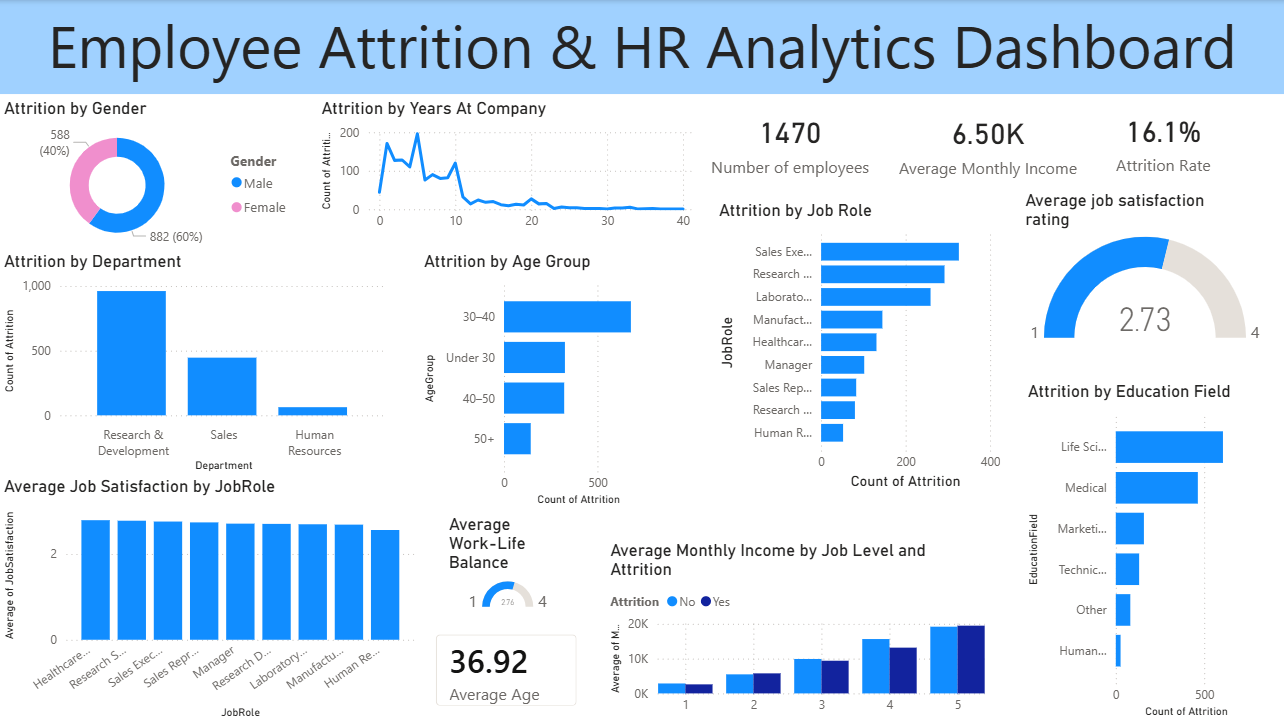

Layout of this report page (visuals, bound fields, positions):
{"tool":"powerbi","page":{"name":"Page 1","canvas":[1280,720],"ordinal":0},"visuals":[{"type":"cardVisual","fields":{"Data":["Avg(WA_Fn-UseC_-HR-Employee-Attrition.Age)"]},"box":[418.6,614.3,174.3,105.7],"z":0},{"type":"textbox","box":[0,0,1280.3,93.3],"z":1000},{"type":"card","fields":{"Values":["Avg(WA_Fn-UseC_-HR-Employee-Attrition.MonthlyIncome)"]},"box":[880,101.4,210,81.4],"z":2000},{"type":"card","fields":{"Values":["Sum(WA_Fn-UseC_-HR-Employee-Attrition.EmployeeCount)"]},"box":[695.7,94.3,184.3,94.3],"z":3000},{"type":"gauge","title":"Average job satisfaction rating","fields":{"Y":["Avg(WA_Fn-UseC_-HR-Employee-Attrition.JobSatisfaction)"],"MinValue":["Min(WA_Fn-UseC_-HR-Employee-Attrition.JobSatisfaction)1"],"MaxValue":["Max(WA_Fn-UseC_-HR-Employee-Attrition.JobSatisfaction)2"]},"box":[1015.7,188.6,248.6,157.1],"z":4000},{"type":"donutChart","title":" Attrition by Gender","fields":{"Category":["WA_Fn-UseC_-HR-Employee-Attrition.Gender"],"Y":["CountNonNull(WA_Fn-UseC_-HR-Employee-Attrition.Attrition)"]},"box":[0,97.1,301.4,154.3],"z":5000},{"type":"clusteredColumnChart","title":"Attrition by Department","fields":{"Category":["WA_Fn-UseC_-HR-Employee-Attrition.Department"],"Y":["CountNonNull(WA_Fn-UseC_-HR-Employee-Attrition.Attrition)"]},"box":[0,250,391.4,224.3],"z":6000},{"type":"barChart","title":"Attrition by Job Role","fields":{"Category":["WA_Fn-UseC_-HR-Employee-Attrition.JobRole"],"Y":["CountNonNull(WA_Fn-UseC_-HR-Employee-Attrition.Attrition)"]},"box":[711.4,198.6,290,292.9],"z":7000},{"type":"clusteredBarChart","title":"Attrition by Education Field","fields":{"Category":["WA_Fn-UseC_-HR-Employee-Attrition.EducationField"],"Y":["CountNonNull(WA_Fn-UseC_-HR-Employee-Attrition.Attrition)"]},"box":[1018.6,380,248.6,340],"z":8000},{"type":"lineChart","title":" Attrition by Years At Company","fields":{"Category":["WA_Fn-UseC_-HR-Employee-Attrition.YearsAtCompany"],"Y":["CountNonNull(WA_Fn-UseC_-HR-Employee-Attrition.Attrition)"]},"box":[315.7,97.1,380,141.4],"z":9000},{"type":"card","fields":{"Values":["WA_Fn-UseC_-HR-Employee-Attrition.Attrition Rate"]},"box":[1090,101.4,138.6,75.7],"z":10000},{"type":"gauge","title":"Average Work-Life Balance","fields":{"Y":["Avg(WA_Fn-UseC_-HR-Employee-Attrition.WorkLifeBalance)"],"MinValue":["Min(WA_Fn-UseC_-HR-Employee-Attrition.WorkLifeBalance)"],"MaxValue":["Max(WA_Fn-UseC_-HR-Employee-Attrition.WorkLifeBalance)"]},"box":[442.9,511.4,127.1,102.9],"z":11000},{"type":"clusteredColumnChart","title":"Average Monthly Income by Job Level and Attrition","fields":{"Category":["WA_Fn-UseC_-HR-Employee-Attrition.JobLevel"],"Y":["Avg(WA_Fn-UseC_-HR-Employee-Attrition.MonthlyIncome)"],"Series":["WA_Fn-UseC_-HR-Employee-Attrition.Attrition"]},"box":[602.9,537.1,382.9,182.9],"z":12000},{"type":"barChart","title":"Attrition by Age Group","fields":{"Category":["WA_Fn-UseC_-HR-Employee-Attrition.AgeGroup"],"Y":["CountNonNull(WA_Fn-UseC_-HR-Employee-Attrition.Attrition)"]},"box":[418.6,250,248.6,258.6],"z":13000},{"type":"columnChart","title":"Average Job Satisfaction by JobRole","fields":{"Category":["WA_Fn-UseC_-HR-Employee-Attrition.JobRole"],"Y":["Avg(WA_Fn-UseC_-HR-Employee-Attrition.JobSatisfaction)"]},"box":[0,474.3,418.6,245.7],"z":14000}]}

Visuals, with their boxes in screenshot pixels (x1, y1, x2, y2), scaled from the page's 1280x720 canvas onto the 1284x721 screenshot:
cardVisual - Avg(WA_Fn-UseC_-HR-Employee-Attrition.Age): {"left": 420, "top": 615, "right": 595, "bottom": 720}
textbox: {"left": 0, "top": 0, "right": 1283, "bottom": 93}
card - Avg(WA_Fn-UseC_-HR-Employee-Attrition.MonthlyIncome): {"left": 883, "top": 102, "right": 1093, "bottom": 183}
card - Sum(WA_Fn-UseC_-HR-Employee-Attrition.EmployeeCount): {"left": 698, "top": 94, "right": 883, "bottom": 189}
"Average job satisfaction rating" gauge: {"left": 1019, "top": 189, "right": 1268, "bottom": 346}
" Attrition by Gender" donutChart: {"left": 0, "top": 97, "right": 302, "bottom": 252}
"Attrition by Department" clusteredColumnChart: {"left": 0, "top": 250, "right": 393, "bottom": 475}
"Attrition by Job Role" barChart: {"left": 714, "top": 199, "right": 1005, "bottom": 492}
"Attrition by Education Field" clusteredBarChart: {"left": 1022, "top": 381, "right": 1271, "bottom": 720}
" Attrition by Years At Company" lineChart: {"left": 317, "top": 97, "right": 698, "bottom": 239}
card - WA_Fn-UseC_-HR-Employee-Attrition.Attrition Rate: {"left": 1093, "top": 102, "right": 1232, "bottom": 177}
"Average Work-Life Balance" gauge: {"left": 444, "top": 512, "right": 572, "bottom": 615}
"Average Monthly Income by Job Level and Attrition" clusteredColumnChart: {"left": 605, "top": 538, "right": 989, "bottom": 720}
"Attrition by Age Group" barChart: {"left": 420, "top": 250, "right": 669, "bottom": 509}
"Average Job Satisfaction by JobRole" columnChart: {"left": 0, "top": 475, "right": 420, "bottom": 720}
